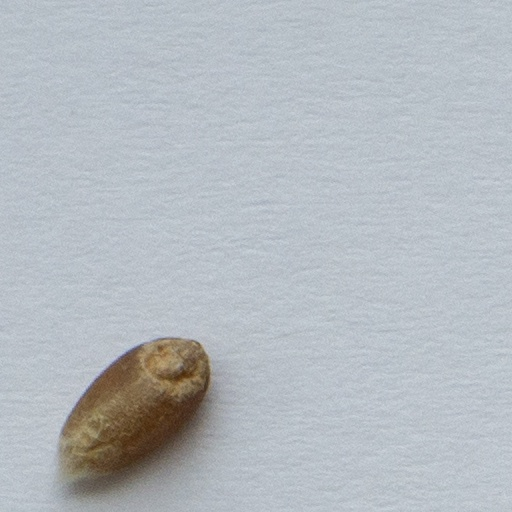Wheat-grain-poly: (62, 340, 208, 474)
